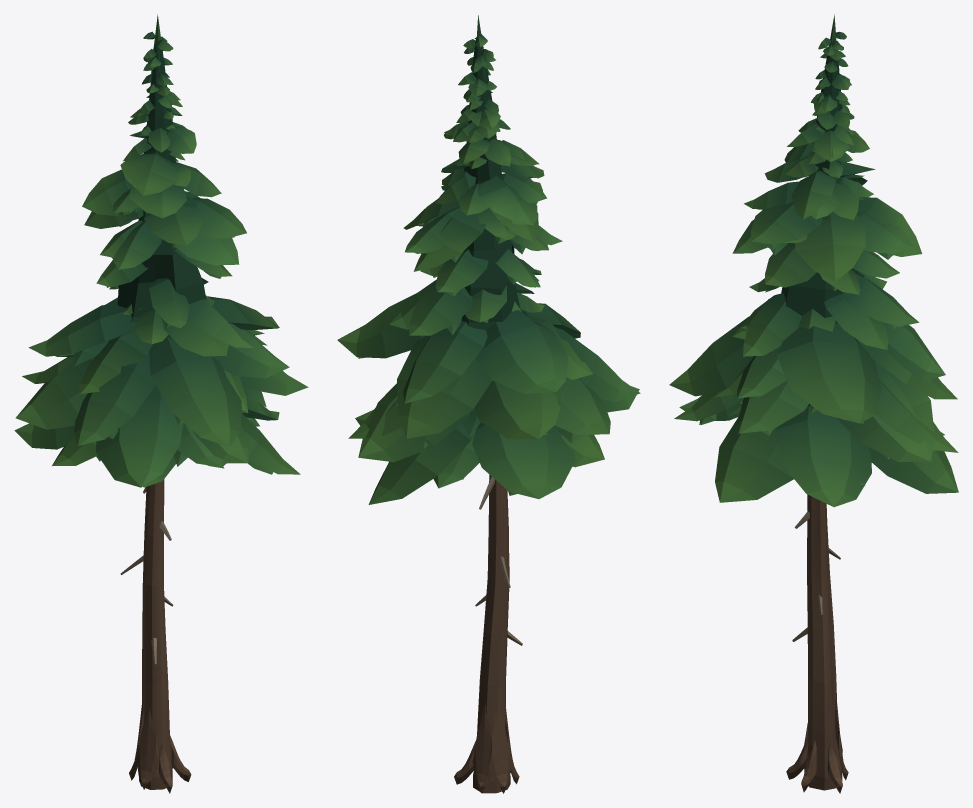
The model's file is spruce_mature_A.glb.
3 renders of one model, left to right at view 1: azimuth 30°, elevation 25°; view 2: azimuth 150°, elevation 25°; view 3: azimuth 270°, elevation 25°, orthographic.
Visible parts, largest first — view 1: spruce_mature_A; view 2: spruce_mature_A; view 3: spruce_mature_A.
Part boxes in pixels (bbox=[...]): spruce_mature_A: bbox=[14, 14, 308, 793]; spruce_mature_A: bbox=[337, 15, 640, 793]; spruce_mature_A: bbox=[669, 14, 958, 793].
Size of the model in its own units: 6.59 by 18.3 by 6.23.
